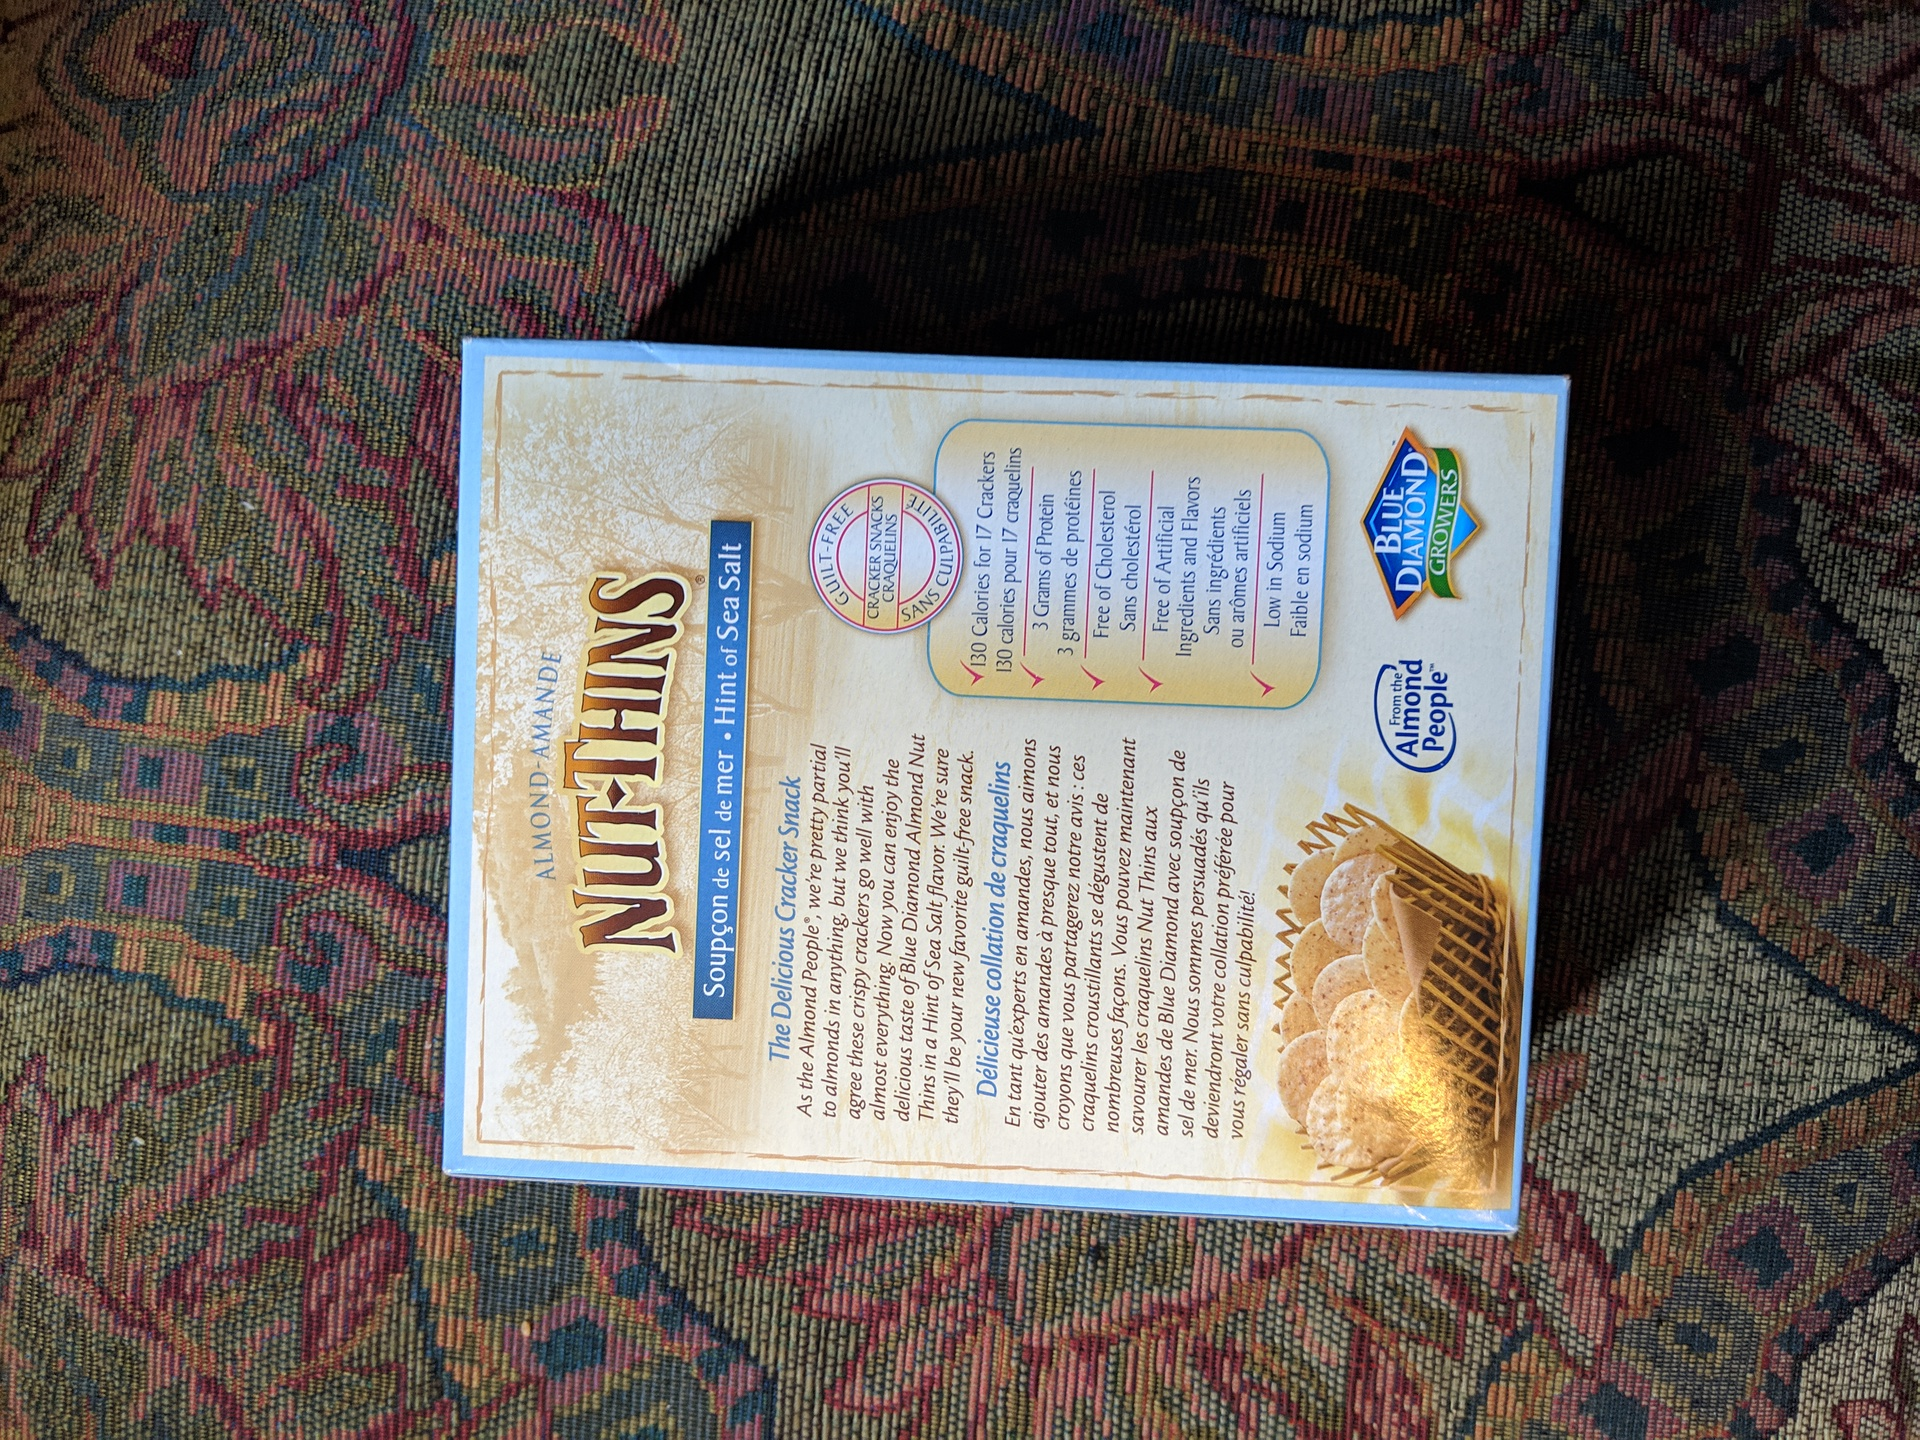blue_diamond_nut_thins_almond_seasalt: (454, 342, 1530, 1233)
